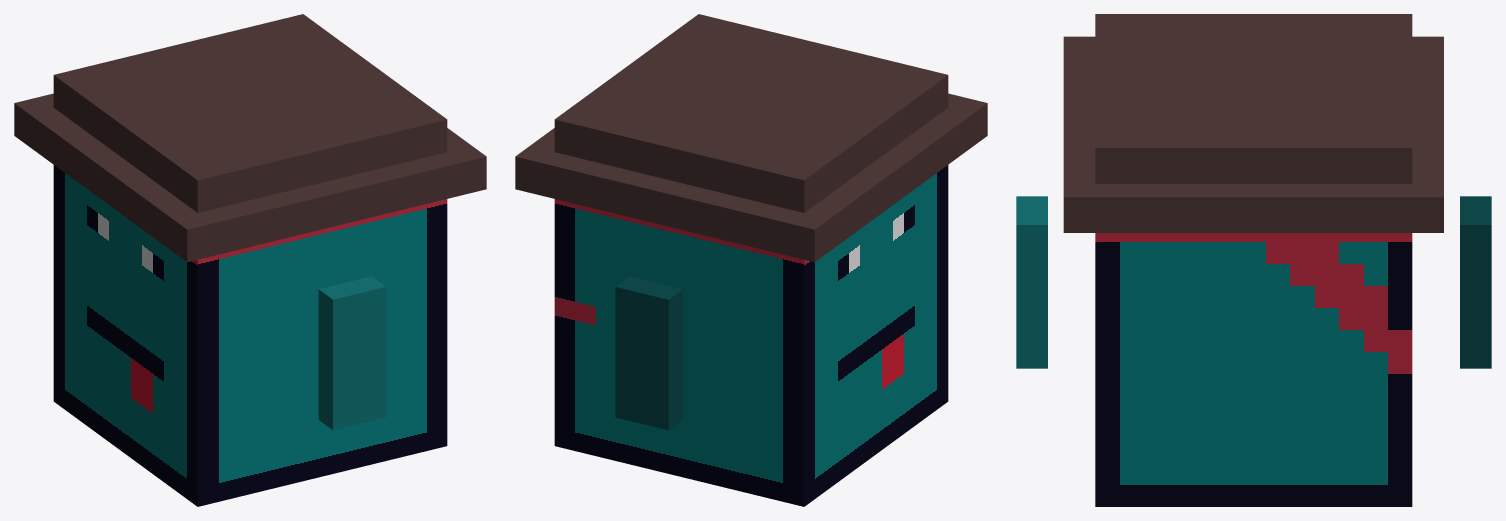
Rendered from player.glb.
The picture shows the model from 3 angles, left to right: view 1: azimuth 30°, elevation 25°; view 2: azimuth 150°, elevation 25°; view 3: azimuth 270°, elevation 25°; orthographic projection. The views are drawn at different scales.
Parts seen in each view (by area): view 1: character, left_arm; view 2: character, right_arm; view 3: character, left_arm, right_arm.
Boxes of the visible parts, left/top/right/bottom form: character: left=14, top=14, right=486, bottom=506; left_arm: left=318, top=276, right=386, bottom=430; character: left=515, top=14, right=987, bottom=506; right_arm: left=615, top=276, right=683, bottom=430; character: left=1063, top=14, right=1443, bottom=506; left_arm: left=1016, top=196, right=1047, bottom=368; right_arm: left=1460, top=196, right=1491, bottom=368.
Size of what is drawn, in the model's own units: 0.24 by 0.25 by 0.3.
1 material, 1 textured.
